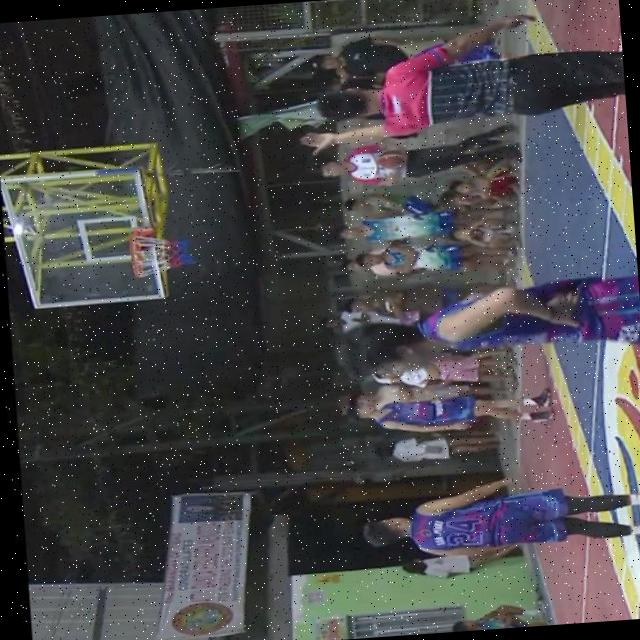ball: (368, 144, 416, 172)
hoop: (127, 229, 148, 280)
